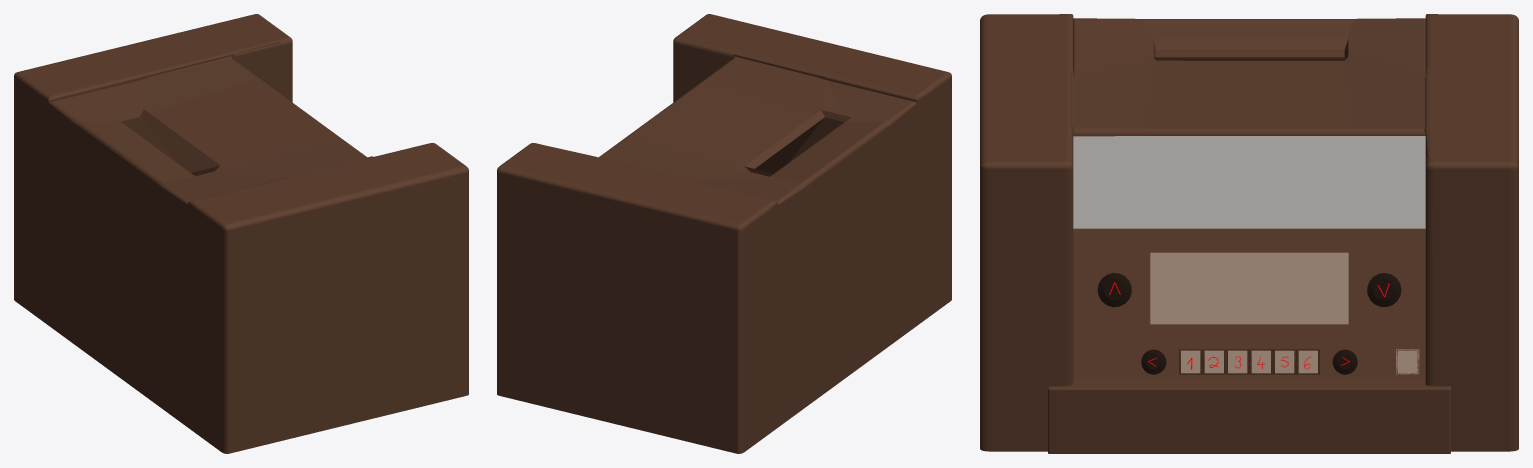
Rendered from radiofixedcombotoes.fbx.
The picture shows the model from 3 angles, left to right: view 1: azimuth 30°, elevation 25°; view 2: azimuth 150°, elevation 25°; view 3: azimuth 270°, elevation 25°; orthographic projection. The views are drawn at different scales.
Parts seen in each view (by area): view 1: Rádio; view 2: Rádio; view 3: Rádio, Botão grande 1, Botão grande 2, Botão Quadrado 3, Botão Quadrado 5, Botão Quadrado 6, Botão Quadrado 1, Botão Quadrado 2, Botão Quadrado 4, Botão Quadrado singular.
Part boxes in pixels (<box>): Rádio: <box>14,14,468,453</box>; Rádio: <box>497,14,951,453</box>; Rádio: <box>980,14,1518,453</box>; Botão grande 1: <box>1367,273,1401,306</box>; Botão grande 2: <box>1097,273,1131,307</box>; Botão Quadrado 3: <box>1226,349,1249,374</box>; Botão Quadrado 5: <box>1273,349,1296,374</box>; Botão Quadrado 6: <box>1296,349,1319,374</box>; Botão Quadrado 1: <box>1179,349,1202,374</box>; Botão Quadrado 2: <box>1202,349,1225,374</box>; Botão Quadrado 4: <box>1249,349,1272,374</box>; Botão Quadrado singular: <box>1396,349,1419,374</box>.
Size of the model in its own units: 63.9 by 55.51 by 94.31.
Materials: 25 (10 with a texture image).
